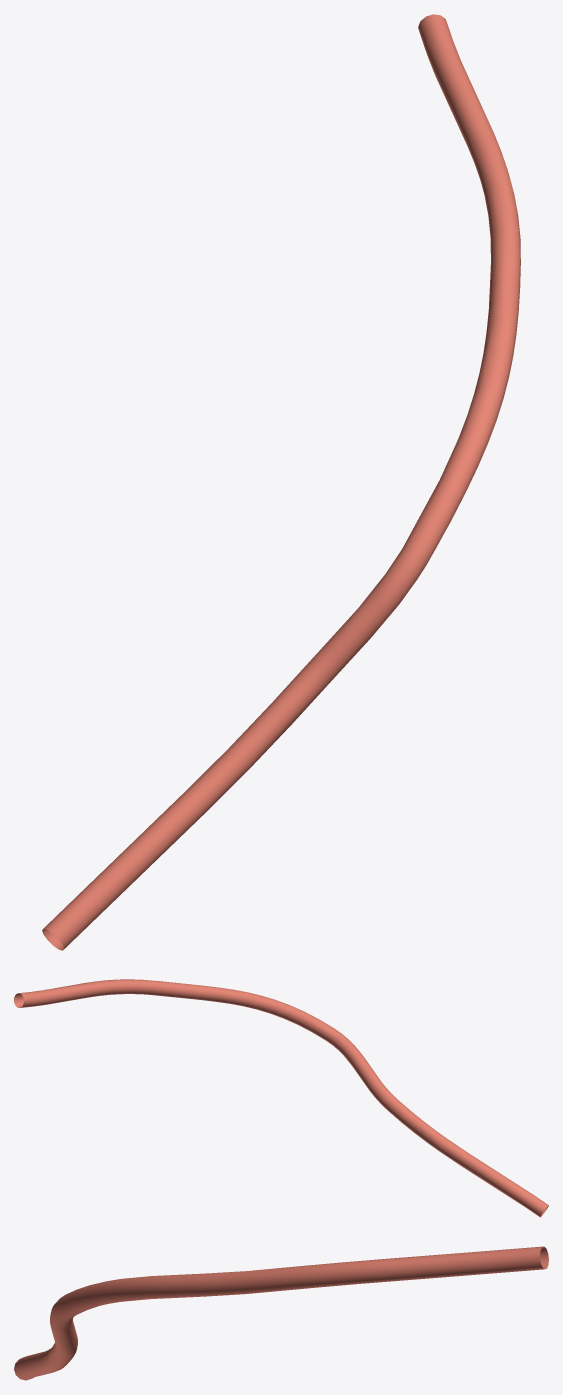
File: visceras-parotid-duct-l.glb
The picture shows the model from 3 angles, top to bottom: view 1: azimuth 30°, elevation 25°; view 2: azimuth 150°, elevation 25°; view 3: azimuth 270°, elevation 25°; orthographic projection. The views are drawn at different scales.
Parts seen in each view (by area): view 1: Parotid duct.l; view 2: Parotid duct.l; view 3: Parotid duct.l.
Part boxes in pixels (bbox=[...]): Parotid duct.l: bbox=[42, 14, 520, 950]; Parotid duct.l: bbox=[14, 979, 548, 1217]; Parotid duct.l: bbox=[14, 1246, 548, 1380].
Bounding box in the file's own units: 0.0283 × 0.0191 × 0.0231.
